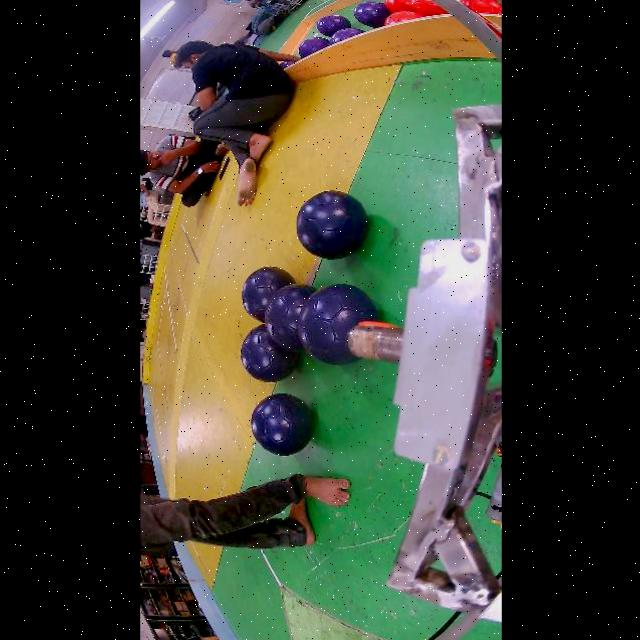B: (298, 284, 378, 365), (295, 191, 368, 259), (250, 394, 314, 455), (264, 284, 315, 352), (240, 325, 298, 382), (241, 267, 294, 322)
P: (353, 1, 391, 28), (317, 15, 351, 36), (298, 36, 329, 58), (329, 28, 365, 45)
R: (460, 0, 502, 15), (411, 0, 448, 16), (385, 11, 424, 25), (385, 0, 414, 13)
